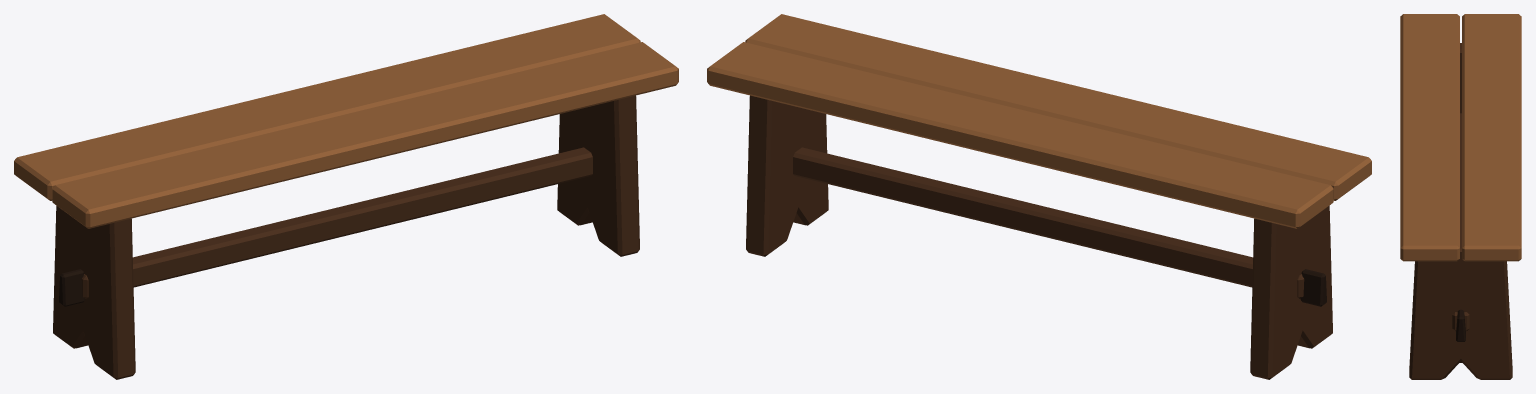
File: bench.obj
3 renders of one model, left to right at view 1: azimuth 30°, elevation 25°; view 2: azimuth 150°, elevation 25°; view 3: azimuth 270°, elevation 25°, orthographic. The views are drawn at different scales.
Visible parts, largest first — view 1: box, box.001, box.002, prism, prism.001, box.003; view 2: box.001, box, box.002, prism, prism.001, box.003; view 3: box, box.001, prism.001, box.002, box.004, prism.
Boxes of the visible parts, bbox=[...] form: box: bbox=[52, 42, 678, 228]; box.001: bbox=[14, 14, 640, 200]; box.002: bbox=[81, 147, 592, 298]; prism: bbox=[53, 206, 135, 379]; prism.001: bbox=[557, 95, 639, 256]; box.003: bbox=[59, 269, 85, 306]; box.001: bbox=[707, 42, 1333, 228]; box: bbox=[745, 14, 1371, 200]; box.002: bbox=[793, 147, 1304, 298]; prism: bbox=[1250, 206, 1332, 379]; prism.001: bbox=[746, 95, 828, 256]; box.003: bbox=[1300, 269, 1326, 306]; box: bbox=[1400, 14, 1459, 261]; box.001: bbox=[1462, 14, 1521, 261]; prism.001: bbox=[1409, 241, 1512, 379]; box.002: bbox=[1452, 113, 1469, 331]; box.004: bbox=[1456, 309, 1465, 341]; prism: bbox=[1460, 43, 1461, 113].
Size of the model in its own units: 1.6 by 0.47 by 0.35.
